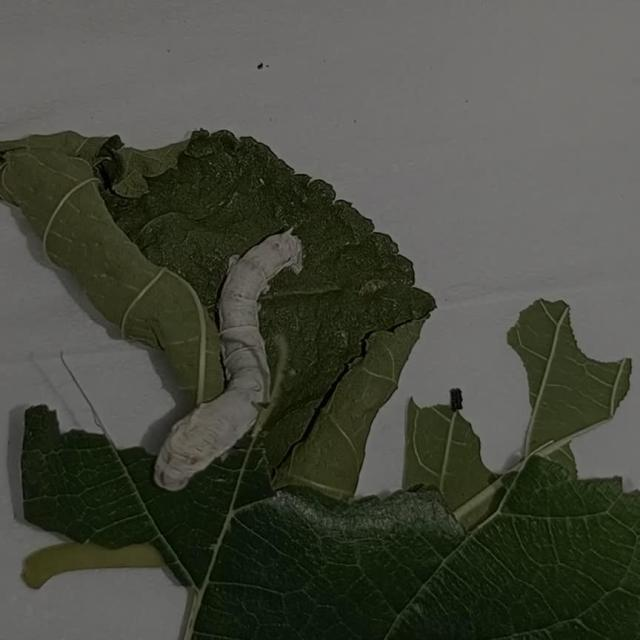Healthy: (146, 198, 318, 506)
